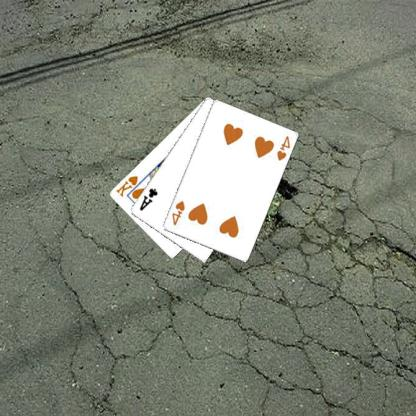4H: (171, 198, 188, 227), (276, 134, 293, 162)
AC: (138, 186, 161, 212)
KH: (115, 173, 141, 198)
